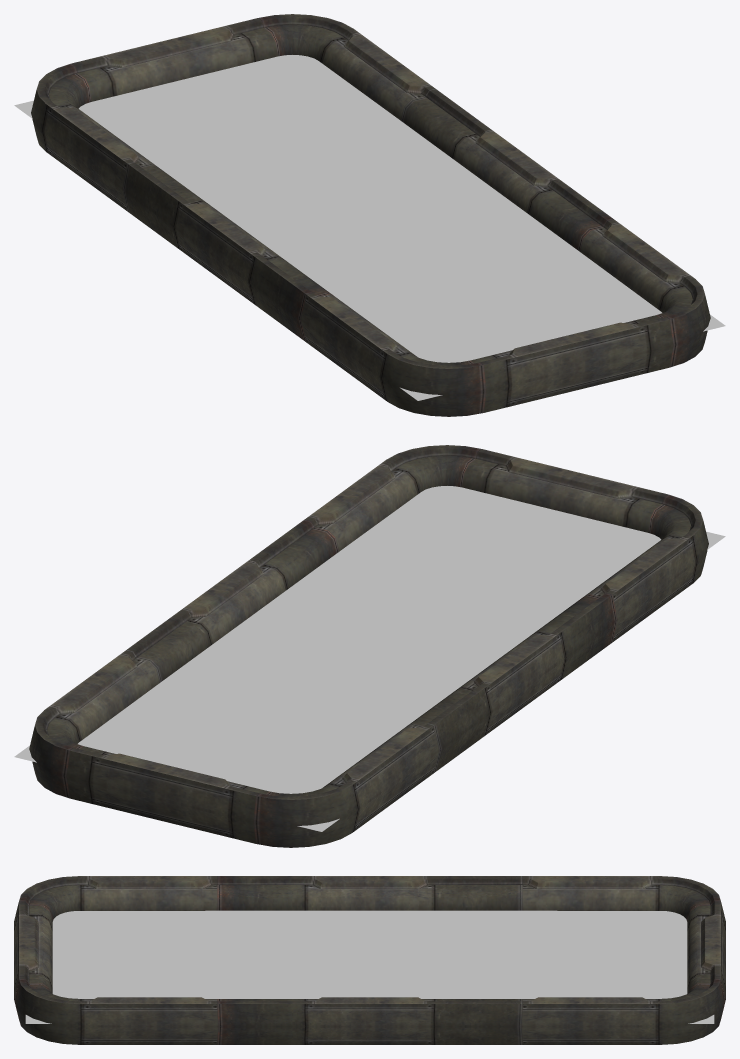
File: pplant_bulkhead_window_large_less_reflection.dae
3 views of the same model, one above another, from view 1: azimuth 30°, elevation 25°; view 2: azimuth 150°, elevation 25°; view 3: azimuth 270°, elevation 25° (orthographic). The views are drawn at different scales.
Parts seen in each view (by area): view 1: bulkhead_windowframe_large_glass, bulkhead_windowframe_large; view 2: bulkhead_windowframe_large_glass, bulkhead_windowframe_large; view 3: bulkhead_windowframe_large, bulkhead_windowframe_large_glass.
Boxes of the visible parts, box(x1,y1,x2,y2) form: bulkhead_windowframe_large_glass: box(14, 55, 725, 400); bulkhead_windowframe_large: box(31, 14, 710, 416); bulkhead_windowframe_large_glass: box(14, 486, 725, 831); bulkhead_windowframe_large: box(29, 445, 708, 847); bulkhead_windowframe_large: box(14, 876, 725, 1044); bulkhead_windowframe_large_glass: box(25, 910, 714, 1023).
Bounding box in the file's own units: 2.84 × 0.4087 × 6.46.
